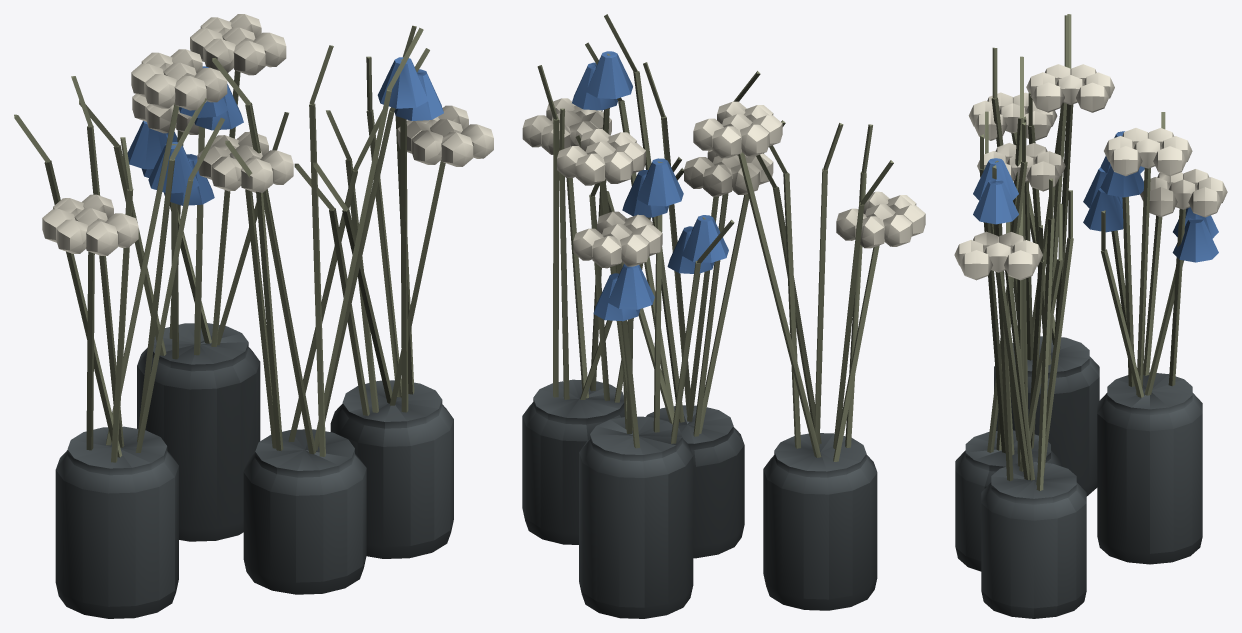
The model's file is flower_jars.glb.
3 renders of one model, left to right at view 1: azimuth 30°, elevation 25°; view 2: azimuth 150°, elevation 25°; view 3: azimuth 270°, elevation 25°, orthographic. The views are drawn at different scales.
Parts seen in each view (by area): view 1: static; view 2: static; view 3: static.
Part boxes in pixels (bbox=[...]): static: bbox=[14, 14, 493, 618]; static: bbox=[522, 14, 925, 618]; static: bbox=[954, 14, 1227, 618].
Bounding box in the file's own units: 0.3339 × 0.3959 × 0.2121.
